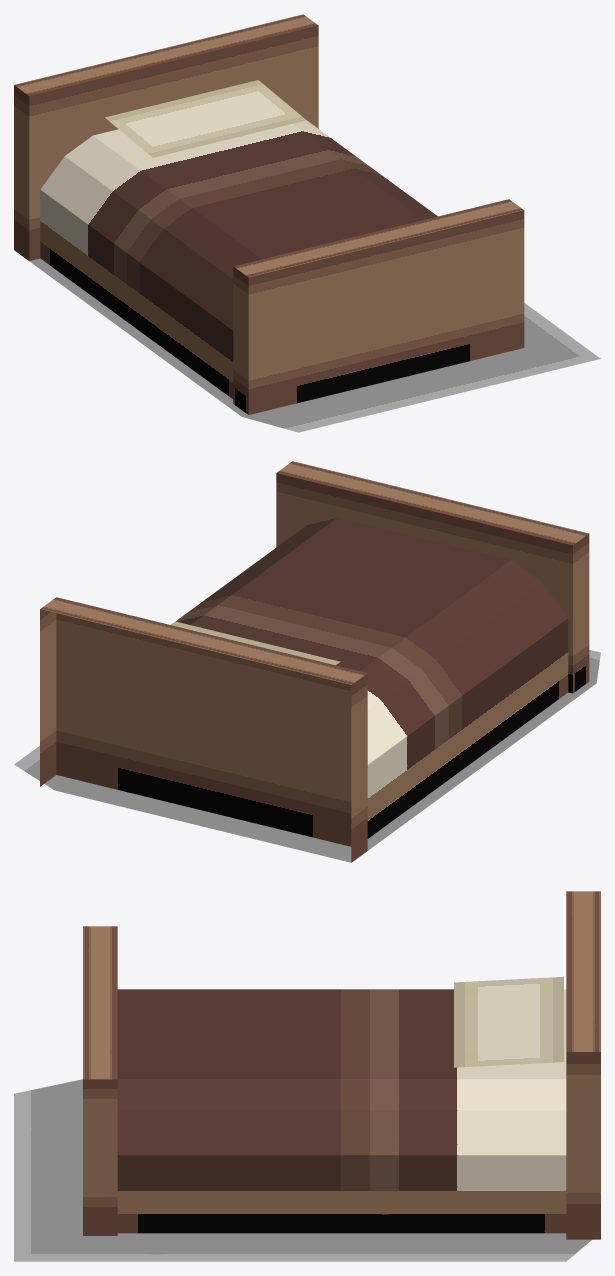
3 views of the same model, one above another, from view 1: azimuth 30°, elevation 25°; view 2: azimuth 150°, elevation 25°; view 3: azimuth 270°, elevation 25° (orthographic). The views are drawn at different scales.
Parts seen in each view (by area): view 1: polygon0, polygon1; view 2: polygon0, polygon1; view 3: polygon0, polygon1.
Part boxes in pixels (x1,y1,x2,y2): polygon0: (14,14,524,414); polygon1: (29,258,600,432); polygon0: (40,461,589,862); polygon1: (14,650,600,862); polygon0: (83,891,600,1239); polygon1: (14,1079,591,1261).
Bounding box in the file's own units: 6.25 × 3 × 8.5.
